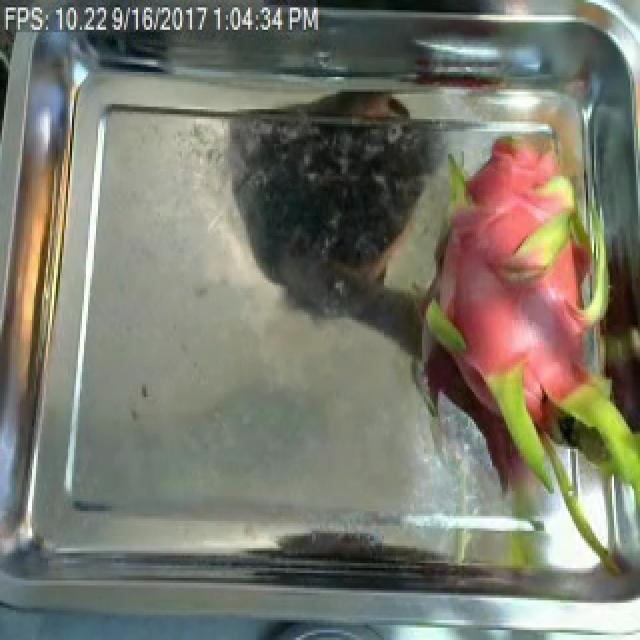fruit: (368, 134, 640, 556)
